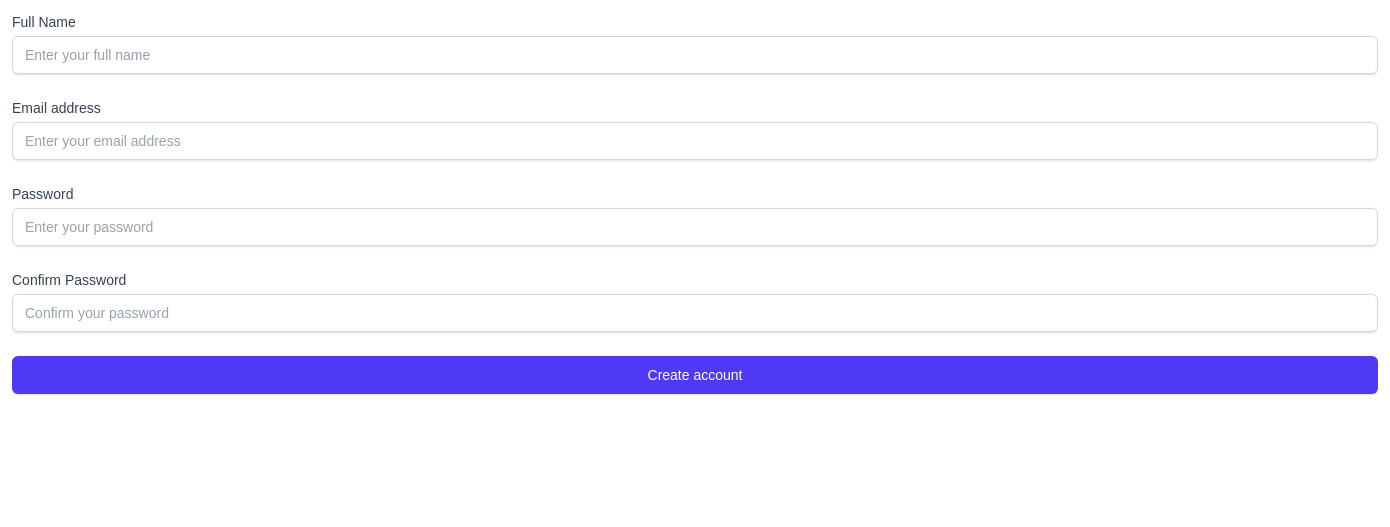
Test: SignupForm › should validate required fields
Click the button "Create account" at [695, 375], box [12,356,1378,394]
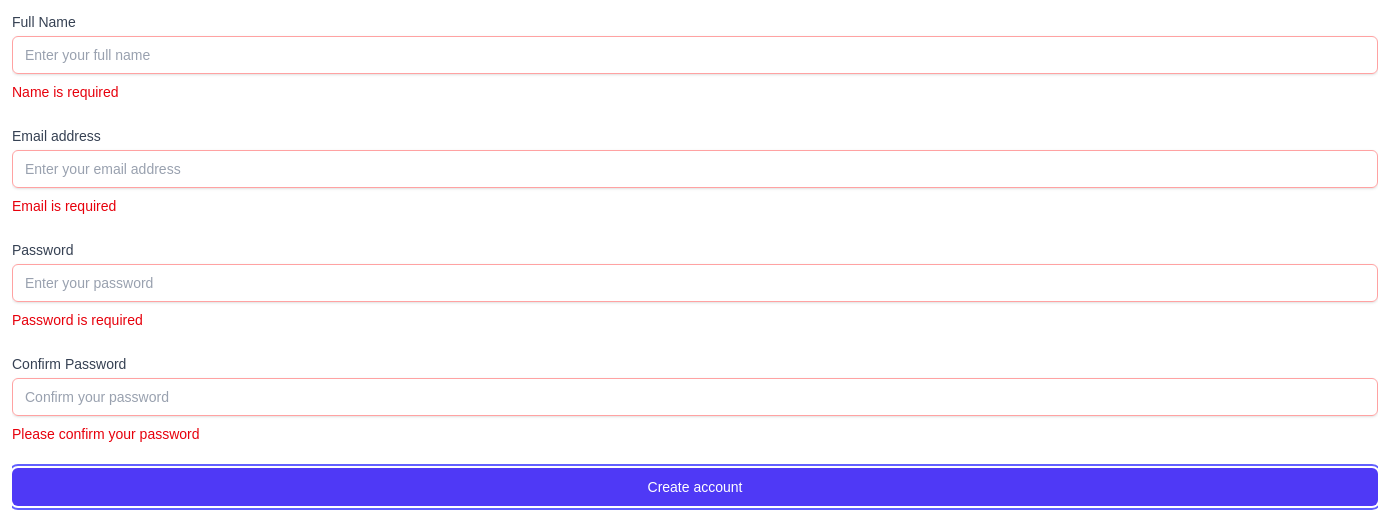
Expected: the text "Name is required" is shown, [12,84,119,100]
Expected: the text "Email is required" is shown, [12,198,116,214]
Expected: the text "Password is required" is shown, [12,312,143,328]
